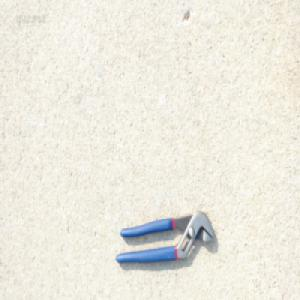Pliers: (114, 209, 216, 264)
